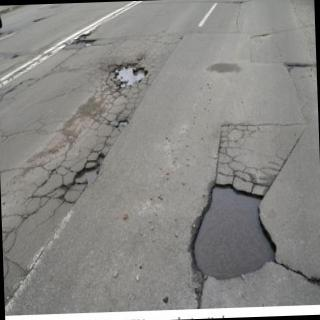pothole: (189, 184, 276, 297), (118, 66, 143, 87)
